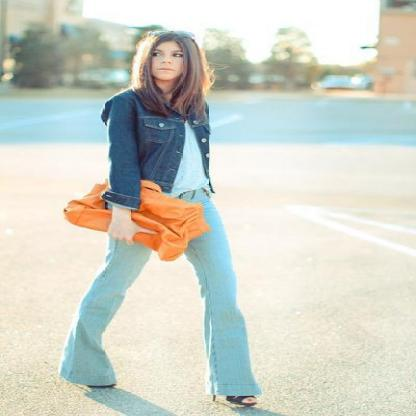bag: (63, 180, 209, 260)
jacket: (100, 92, 214, 210)
pants: (60, 191, 260, 398)
shirt: (163, 125, 209, 202)
shoe: (86, 384, 257, 411)
